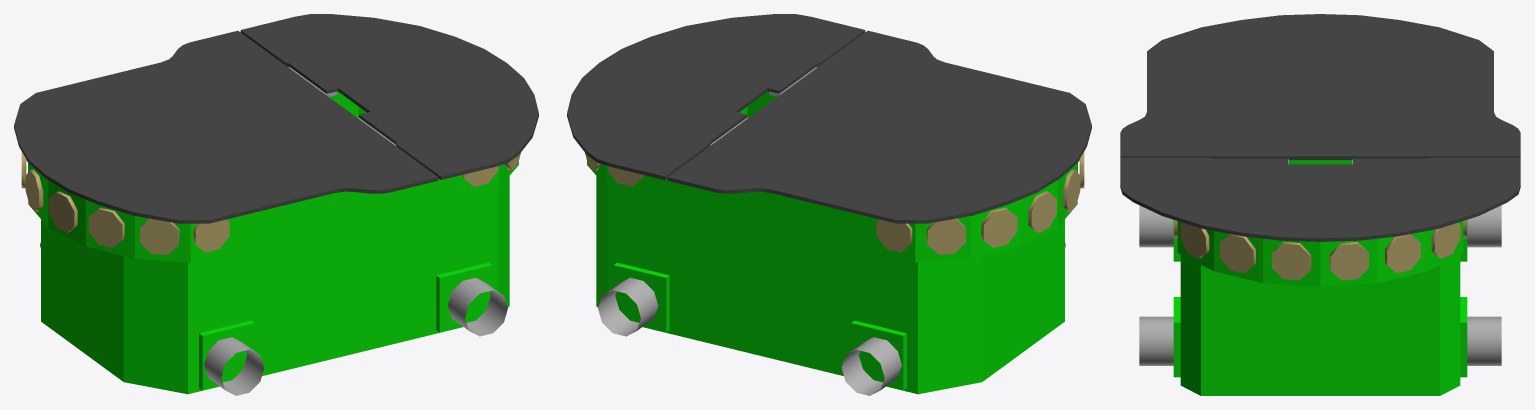
File: chassis.dae
3 views of the same model, side by side, from view 1: azimuth 30°, elevation 25°; view 2: azimuth 150°, elevation 25°; view 3: azimuth 270°, elevation 25° (orthographic).
Parts seen in each view (by area): view 1: Cube_001, Plane_001, Cylinder_003, Plane_007, Plane_002, Plane_006, Plane_005, Cylinder_002, Cylinder; view 2: Cube_001, Plane_001, Cylinder_002, Plane_012, Plane_015, Plane_013, Plane_014, Cylinder_003, Cylinder_001; view 3: Cube_001, Plane_001, Cylinder, Cylinder_001, Plane_007, Plane_012, Plane_002, Plane_015, Plane_006, Plane_013.
Part boxes in pixels (bbox=[...]): Cube_001: bbox=[14, 14, 538, 223]; Plane_001: bbox=[28, 67, 518, 394]; Cylinder_003: bbox=[49, 191, 229, 254]; Plane_007: bbox=[447, 277, 507, 336]; Plane_002: bbox=[204, 337, 264, 395]; Plane_006: bbox=[436, 262, 492, 332]; Plane_005: bbox=[199, 320, 254, 390]; Cylinder_002: bbox=[21, 151, 43, 211]; Cylinder: bbox=[462, 153, 520, 186]; Cube_001: bbox=[567, 14, 1091, 223]; Plane_001: bbox=[587, 67, 1077, 394]; Cylinder_002: bbox=[876, 191, 1056, 254]; Plane_012: bbox=[598, 277, 658, 336]; Plane_015: bbox=[841, 337, 901, 395]; Plane_013: bbox=[613, 262, 669, 332]; Plane_014: bbox=[851, 320, 906, 390]; Cylinder_003: bbox=[1062, 151, 1084, 211]; Cylinder_001: bbox=[585, 153, 643, 186]; Cube_001: bbox=[1120, 14, 1520, 241]; Plane_001: bbox=[1177, 160, 1463, 395]; Cylinder: bbox=[1174, 220, 1311, 280]; Cylinder_001: bbox=[1329, 220, 1466, 280]; Plane_007: bbox=[1139, 316, 1173, 365]; Plane_012: bbox=[1467, 316, 1501, 365]; Plane_002: bbox=[1139, 205, 1173, 247]; Plane_015: bbox=[1467, 205, 1501, 247]; Plane_006: bbox=[1173, 297, 1180, 377]; Plane_013: bbox=[1460, 297, 1467, 377].
Size of the model in its own units: 0.5106 by 0.3831 by 0.1956.
